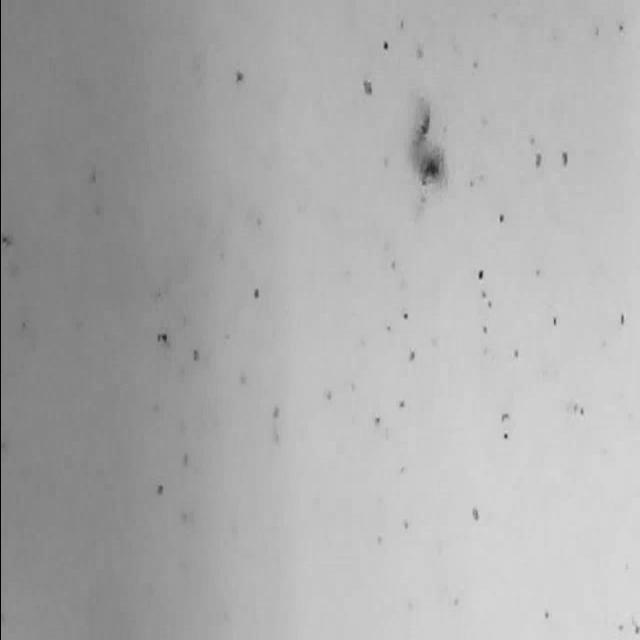larvas: (408, 96, 443, 185)
